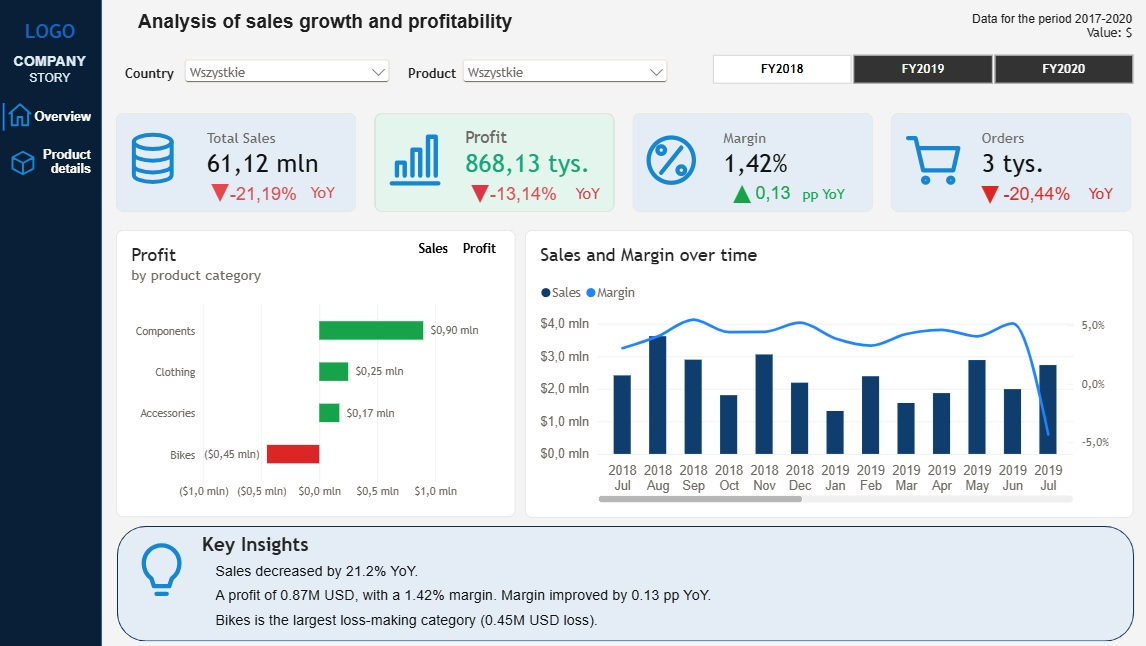

Layout of this report page (visuals, bound fields, positions):
{"tool":"powerbi","page":{"name":"Overview","canvas":[1280,720],"ordinal":0},"visuals":[{"type":"slicer","fields":{"Values":["Date.Year"]},"box":[772.9,60,507.1,35.7],"z":0},{"type":"lineStackedColumnComboChart","title":"Sales and Margin over time","fields":{"Category":["Date.Month"],"Y":["Sum(Sales.Sales)"],"Y2":["Sales.Profit Margin"]},"box":[585.7,257.1,675.7,320],"z":1000},{"type":"barChart","title":"Sales","fields":{"Category":["Product.Category"],"Y":["Sum(Obrót.Obrót)"]},"box":[131.4,257.1,444.3,318.6],"z":2000},{"type":"shape","box":[0,0,115,720],"z":3000},{"type":"textbox","box":[0,22.9,115.7,32.9],"z":4000},{"type":"textbox","box":[0,60,115,18.8],"z":5000},{"type":"textbox","box":[0,78.8,115,18.8],"z":6000},{"type":"cardVisual","title":"Total Sales","fields":{"Data":["Sales.Total Sales","Sales.Profit","Sales.Margin","Sales.Order"]},"box":[131.4,127.1,1130,110],"z":7000},{"type":"textbox","box":[140.9,73,60,18.3],"z":8000},{"type":"slicer","fields":{"Values":["Region.Country"]},"box":[202.5,61.9,238.5,38.5],"z":9000},{"type":"textbox","box":[455.2,73,60.9,18.3],"z":10000},{"type":"slicer","fields":{"Values":["Product.Category"]},"box":[511.2,61.9,238.3,34.4],"z":11000},{"type":"actionButton","title":"widok 1","box":[455.5,258.2,56.1,38.9],"z":13000},{"type":"actionButton","title":"widok 2","box":[510.9,258.2,47.5,38.8],"z":14000},{"type":"textbox","box":[155,13.8,512.5,25],"z":15000},{"type":"textbox","box":[1063.8,13.8,196.9,41.9],"z":16000},{"type":"shape","box":[131.7,585,1130,128.3],"z":17000},{"type":"textbox","box":[226.7,593.3,998.9,113.3],"z":18000},{"type":"image","box":[134.3,145.7,74.4,63.3],"z":19000},{"type":"image","box":[12.5,162.5,30.6,40],"z":20000},{"type":"image","box":[9.4,111.2,30.6,35],"z":21000},{"type":"image","box":[705.1,146,85.6,66.7],"z":22000},{"type":"image","box":[148,594,68,82],"z":23000},{"type":"image","box":[1005.7,142.9,66.7,71.7],"z":24000},{"type":"cardVisual","fields":{"Data":["Sales.Sales YoY Growth"]},"box":[257.5,195.6,98.8,40.6],"z":25000},{"type":"cardVisual","fields":{"Data":["Sales.YoY Label"]},"box":[330.6,195.6,66.9,40.6],"z":26000},{"type":"cardVisual","fields":{"Data":["Sales.Profit YoY Growth"]},"box":[546.2,195.6,97.5,41.7],"z":27000},{"type":"cardVisual","fields":{"Data":["Sales.YoY Label"]},"box":[625,196.2,60,40],"z":28000},{"type":"cardVisual","fields":{"Data":["Sales.Profit Trend Icon"]},"box":[505.6,196.2,57.5,41.2],"z":29000},{"type":"cardVisual","fields":{"Data":["Sales.Sales Trend Icon"]},"box":[216.2,195,57.5,41.2],"z":30000},{"type":"image","box":[419.4,144.6,88.9,68.9],"z":31000},{"type":"cardVisual","fields":{"Data":["Sales.Margin YoY Change"]},"box":[825,195.6,105.6,40.6],"z":32000},{"type":"cardVisual","fields":{"Data":["Sales.Margin Trend Icon"]},"box":[796.2,196.2,57.5,41.2],"z":33000},{"type":"cardVisual","fields":{"Data":["Sales.YoY Label pp"]},"box":[878.1,196.2,93.8,40],"z":34000},{"type":"cardVisual","fields":{"Data":["Sales.Order YoY Growth"]},"box":[1101.2,196.2,160,40],"z":35000},{"type":"cardVisual","fields":{"Data":["Sales.YoY Label"]},"box":[1195.6,196.2,60.6,40],"z":36000},{"type":"cardVisual","fields":{"Data":["Sales.Order Trend Icon"]},"box":[1072.5,200,57.5,37.5],"z":37000},{"type":"cardVisual","fields":{"Data":["Sales.Insight Sales"]},"box":[225.6,624.4,1030.9,24.5],"z":38000},{"type":"cardVisual","fields":{"Data":["Sales.Insight Profitability"]},"box":[225.6,648.9,1030,27.8],"z":39000},{"type":"cardVisual","fields":{"Data":["Sales.Insight Category"]},"box":[225.6,676.7,1018.9,27.8],"z":40000},{"type":"actionButton","box":[12.5,111.2,102.5,40],"z":41000},{"type":"actionButton","box":[12.8,157.8,101.7,47.8],"z":42000},{"type":"shape","box":[0,115.6,12.5,30.6],"z":43000}]}

Visuals, with their boxes on the page's 1280x720 design canvas (x1, y1, x2, y2). These are canvas units, not pixel positions in the 1146x646 screenshot, which may show the page scaled, cropped or inside an application window:
slicer - Date.Year: left=773, top=60, right=1280, bottom=96
"Sales and Margin over time" lineStackedColumnComboChart: left=586, top=257, right=1261, bottom=577
"Sales" barChart: left=131, top=257, right=576, bottom=576
shape: left=0, top=0, right=115, bottom=720
textbox: left=0, top=23, right=116, bottom=56
textbox: left=0, top=60, right=115, bottom=79
textbox: left=0, top=79, right=115, bottom=98
"Total Sales" cardVisual: left=131, top=127, right=1261, bottom=237
textbox: left=141, top=73, right=201, bottom=91
slicer - Region.Country: left=202, top=62, right=441, bottom=100
textbox: left=455, top=73, right=516, bottom=91
slicer - Product.Category: left=511, top=62, right=750, bottom=96
"widok 1" actionButton: left=456, top=258, right=512, bottom=297
"widok 2" actionButton: left=511, top=258, right=558, bottom=297
textbox: left=155, top=14, right=668, bottom=39
textbox: left=1064, top=14, right=1261, bottom=56
shape: left=132, top=585, right=1262, bottom=713
textbox: left=227, top=593, right=1226, bottom=707
image: left=134, top=146, right=209, bottom=209
image: left=12, top=162, right=43, bottom=202
image: left=9, top=111, right=40, bottom=146
image: left=705, top=146, right=791, bottom=213
image: left=148, top=594, right=216, bottom=676
image: left=1006, top=143, right=1072, bottom=215
cardVisual - Sales.Sales YoY Growth: left=258, top=196, right=356, bottom=236
cardVisual - Sales.YoY Label: left=331, top=196, right=398, bottom=236
cardVisual - Sales.Profit YoY Growth: left=546, top=196, right=644, bottom=237
cardVisual - Sales.YoY Label: left=625, top=196, right=685, bottom=236
cardVisual - Sales.Profit Trend Icon: left=506, top=196, right=563, bottom=237
cardVisual - Sales.Sales Trend Icon: left=216, top=195, right=274, bottom=236
image: left=419, top=145, right=508, bottom=214
cardVisual - Sales.Margin YoY Change: left=825, top=196, right=931, bottom=236
cardVisual - Sales.Margin Trend Icon: left=796, top=196, right=854, bottom=237
cardVisual - Sales.YoY Label pp: left=878, top=196, right=972, bottom=236
cardVisual - Sales.Order YoY Growth: left=1101, top=196, right=1261, bottom=236
cardVisual - Sales.YoY Label: left=1196, top=196, right=1256, bottom=236
cardVisual - Sales.Order Trend Icon: left=1072, top=200, right=1130, bottom=238
cardVisual - Sales.Insight Sales: left=226, top=624, right=1256, bottom=649
cardVisual - Sales.Insight Profitability: left=226, top=649, right=1256, bottom=677
cardVisual - Sales.Insight Category: left=226, top=677, right=1244, bottom=704
actionButton: left=12, top=111, right=115, bottom=151
actionButton: left=13, top=158, right=114, bottom=206
shape: left=0, top=116, right=12, bottom=146
